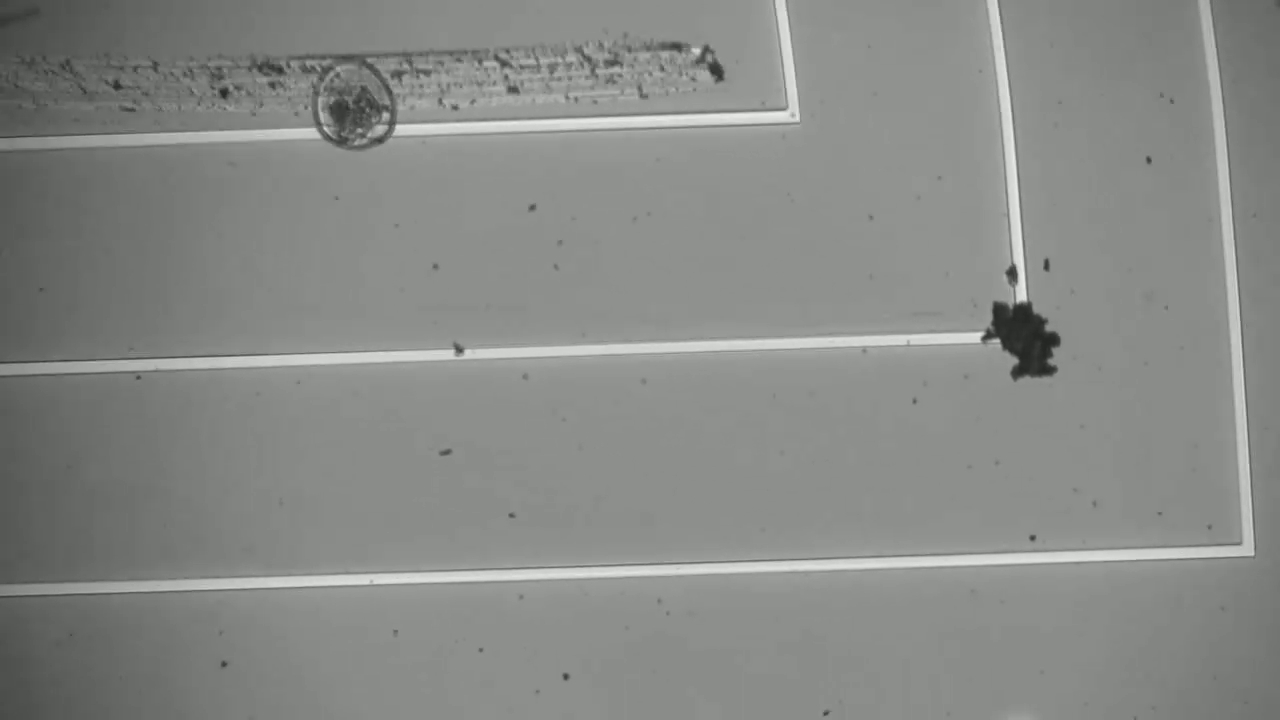stains_enbedded: (975, 276, 1065, 388)
